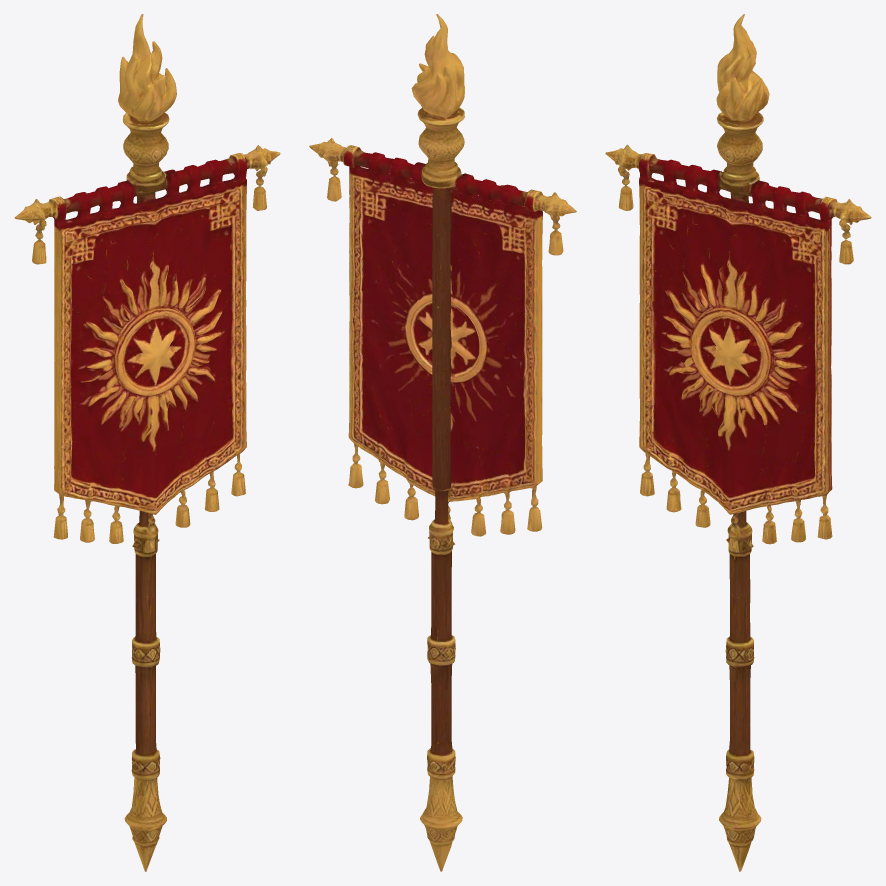
The model's file is Drafsh.glb.
The picture shows the model from 3 angles, left to right: view 1: azimuth 30°, elevation 25°; view 2: azimuth 150°, elevation 25°; view 3: azimuth 330°, elevation 25°; orthographic projection.
Bounding box in the file's own units: 0.6172 × 1.9 × 0.1064.
Materials: 1 (1 with a texture image).
